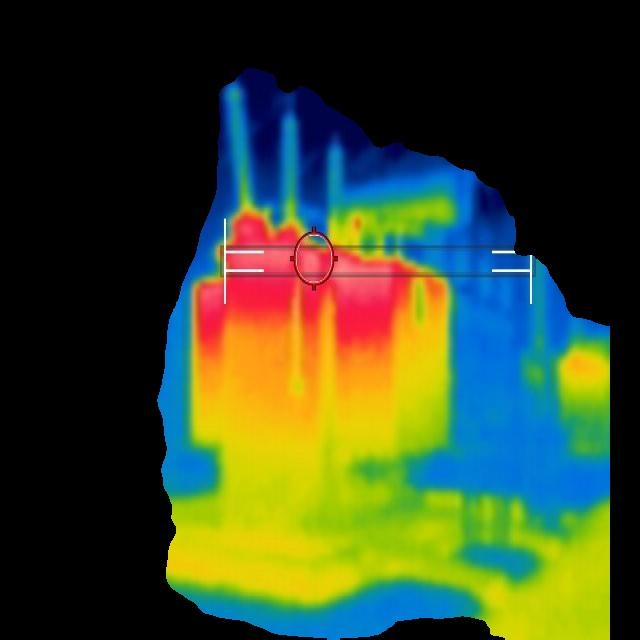Point Overload F: (233, 203, 310, 243)
Transformer Overload: (188, 240, 454, 495)
